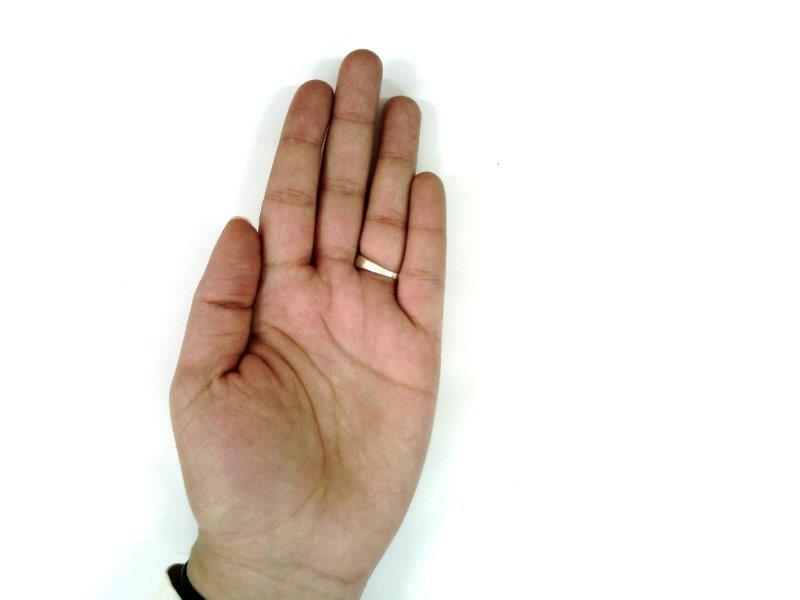hand: (168, 50, 446, 566)
